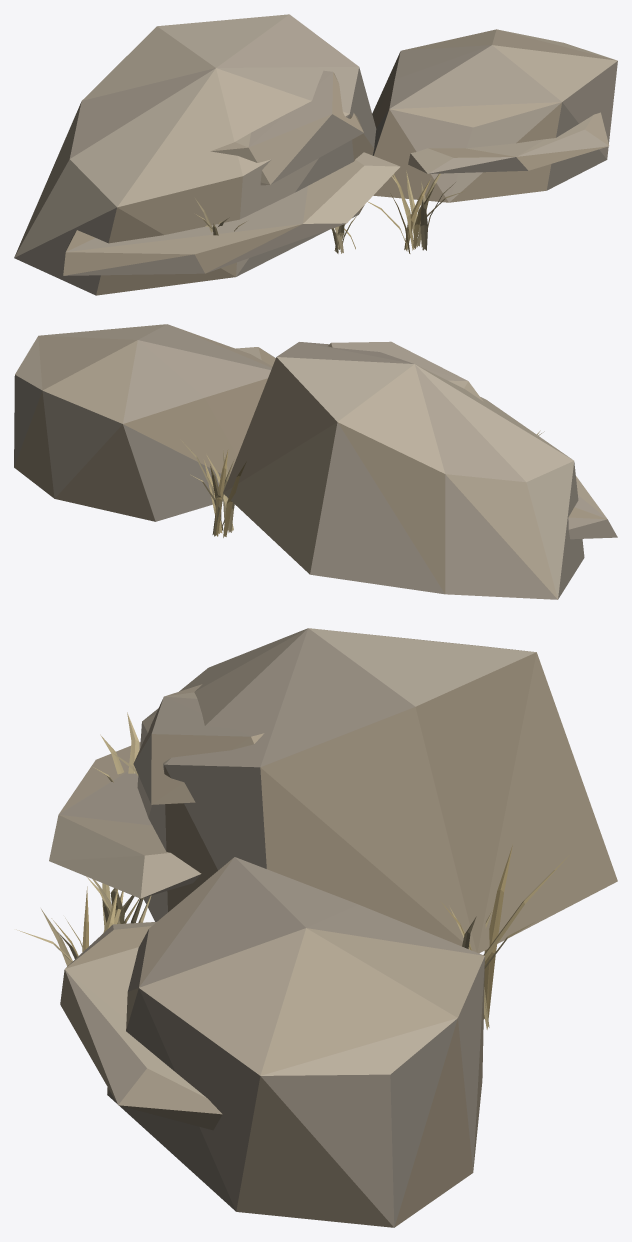
3 renders of one model, top to bottom at view 1: azimuth 30°, elevation 25°; view 2: azimuth 150°, elevation 25°; view 3: azimuth 270°, elevation 25°, orthographic. The views are drawn at different scales.
Parts seen in each view (by area): view 1: c02; view 2: c02; view 3: c02.
Part boxes in pixels (x1,y1,x2,y2): c02: (14,14,617,295); c02: (14,324,617,599); c02: (16,628,617,1227).
Bounding box in the file's own units: 1.3 × 0.3944 × 0.715.
